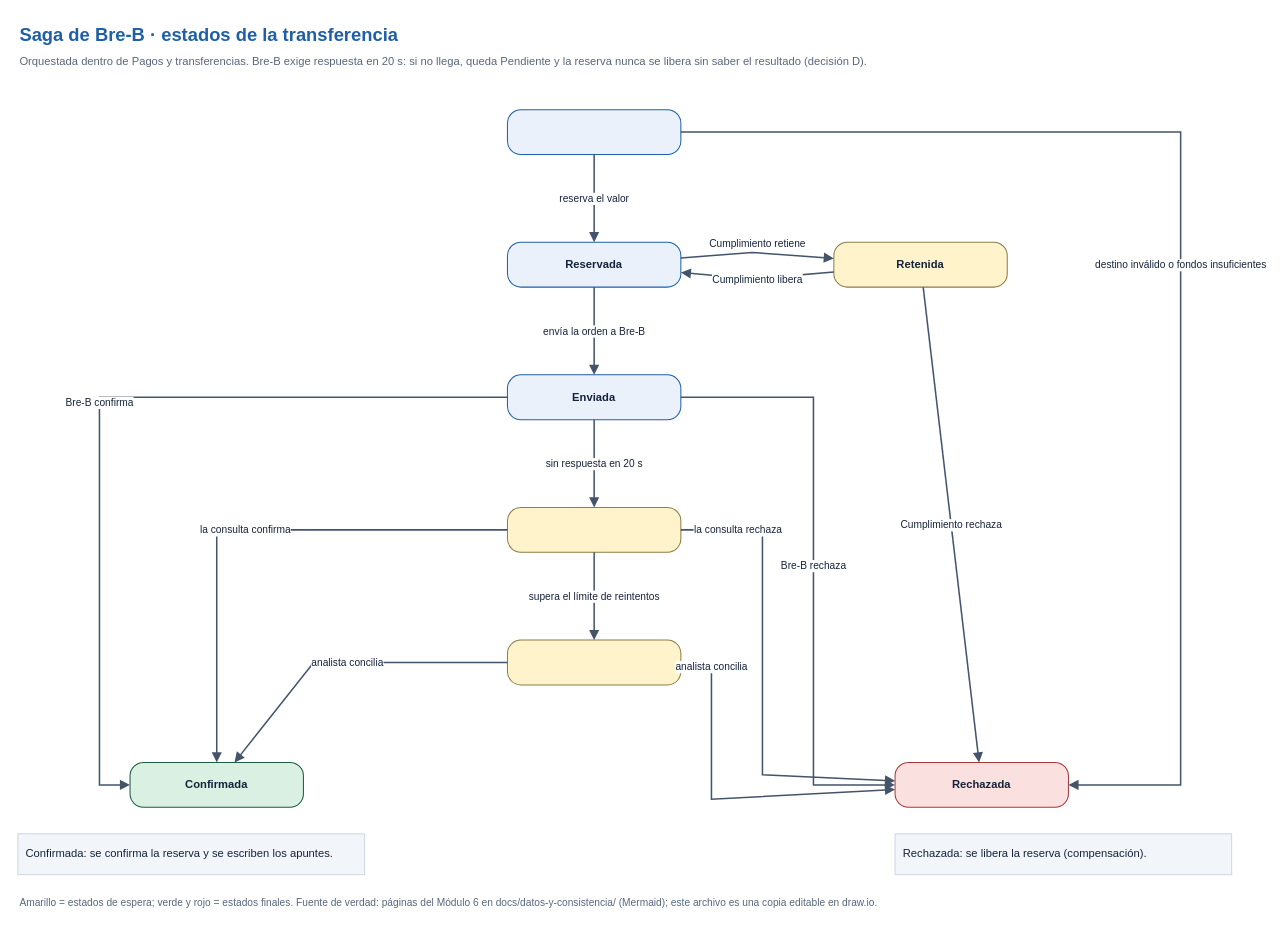
Image size: 1284x937. Some labels were removed from this diagram. The shapes that lost their labels are listed below. From the top down, each one's box as (x1, y1, x2, y2) in pixels, then its label:
(506, 109, 681, 155): Iniciada
(506, 506, 681, 552): Pendiente
(506, 639, 681, 685): Revisión manual
